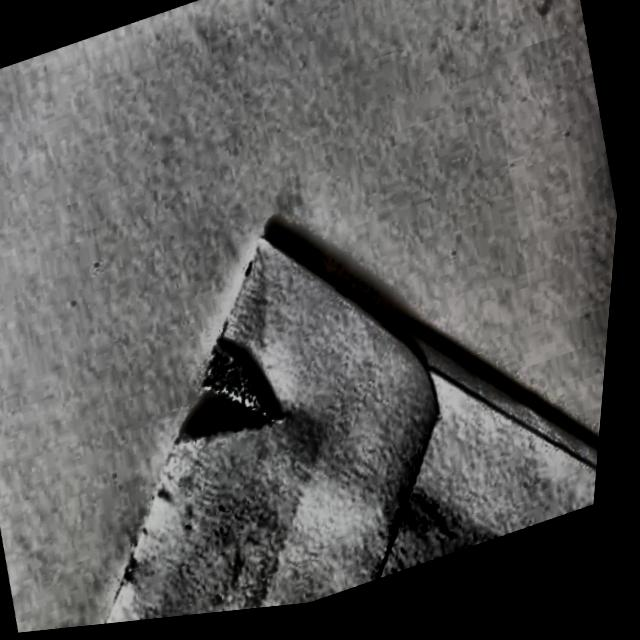Paper: (7, 129, 628, 636)
